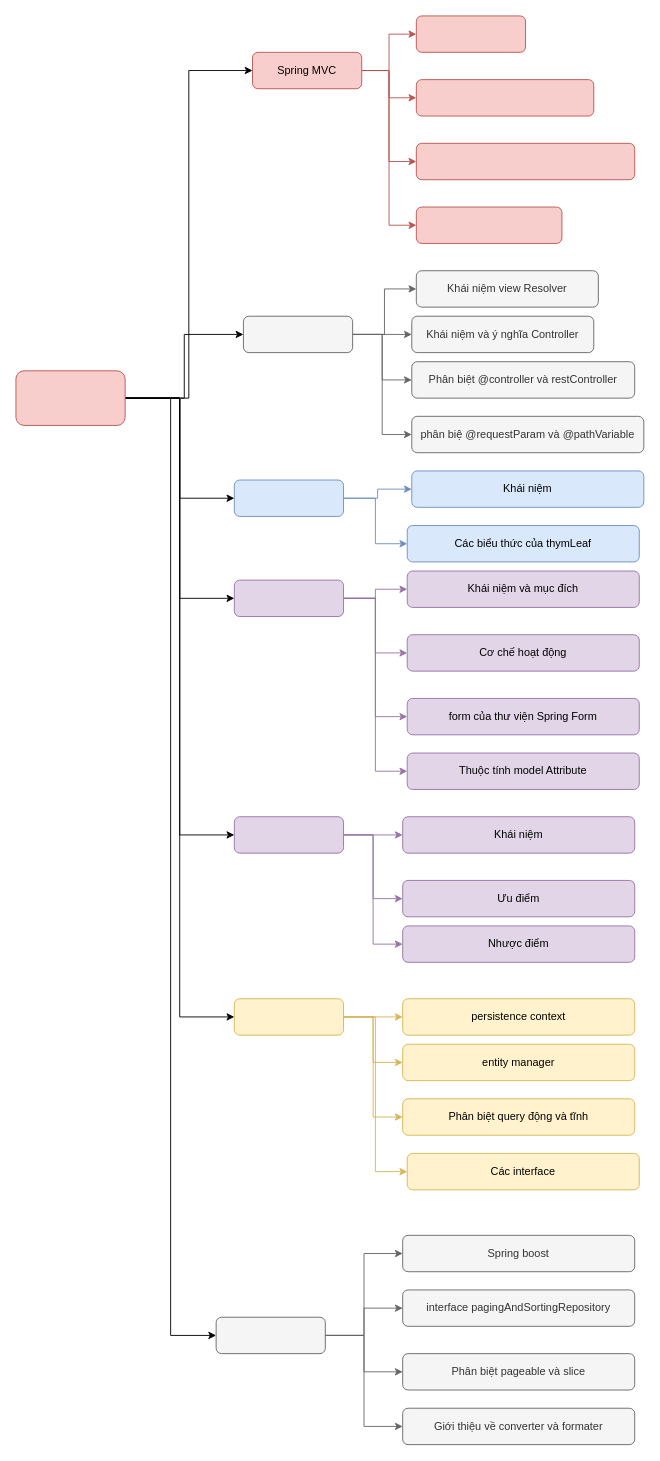
Some shapes in this 660 by 1461 pixel diagram are drawn without their labels. Here are the shapes that lost their labels. From the top down, the centre of each, then its label:
At point (470, 33): "FrameWork".
At point (504, 97): "Phân biệt frame work và library".
At point (525, 161): "Các thành phần của Spring frame work".
At point (488, 224): "Tổng quan Spring MVC".
At point (298, 334): "Spring Controller".
At point (70, 397): "Module 4".
At point (288, 497): "View và thymleaf".
At point (288, 598): "Data binding và form".
At point (288, 834): "ORM".
At point (288, 1016): "JPA".
At point (270, 1335): "Spring data jpa".
